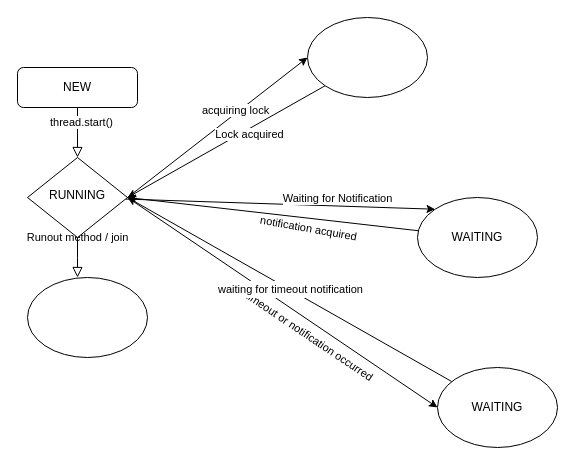
Some shapes in this 575 by 465 pixel diagram are drawn without their labels. The centre of each missing label's shape, as x and y in pixels:
BLOCKED: point 367,57
TERMINATED: point 87,317
